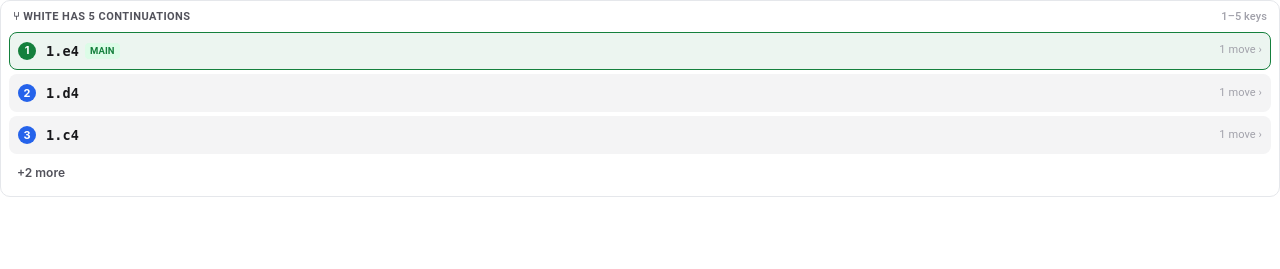
it: VariationForkPicker › shows three rows and a "+N more" row that expands the rest
expect the number of buttons named "Continuation" is 3: met, box x1=9 y1=32 x2=1271 y2=70; x1=9 y1=74 x2=1271 y2=112; x1=9 y1=116 x2=1271 y2=154
Click the button "+2 more" at (41, 173), box x1=9 y1=158 x2=1271 y2=188
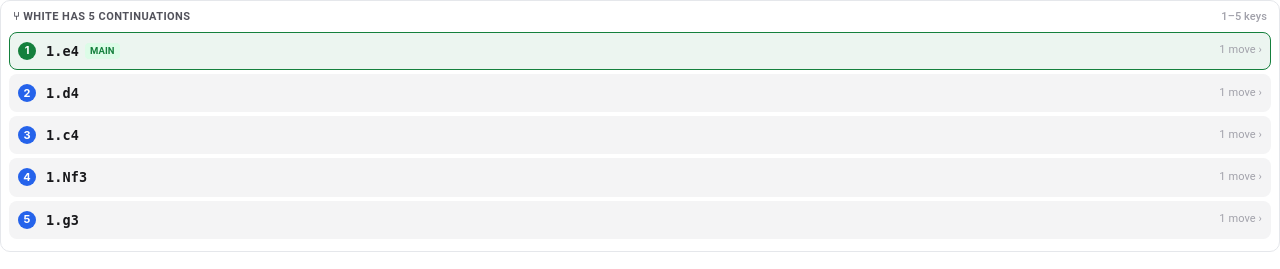
expect the number of buttons named "Continuation" is 5: met, box x1=9 y1=32 x2=1271 y2=70; x1=9 y1=74 x2=1271 y2=112; x1=9 y1=116 x2=1271 y2=154; x1=9 y1=158 x2=1271 y2=197; x1=9 y1=200 x2=1271 y2=239
expect the button with test id "fork-more" is gone: met
